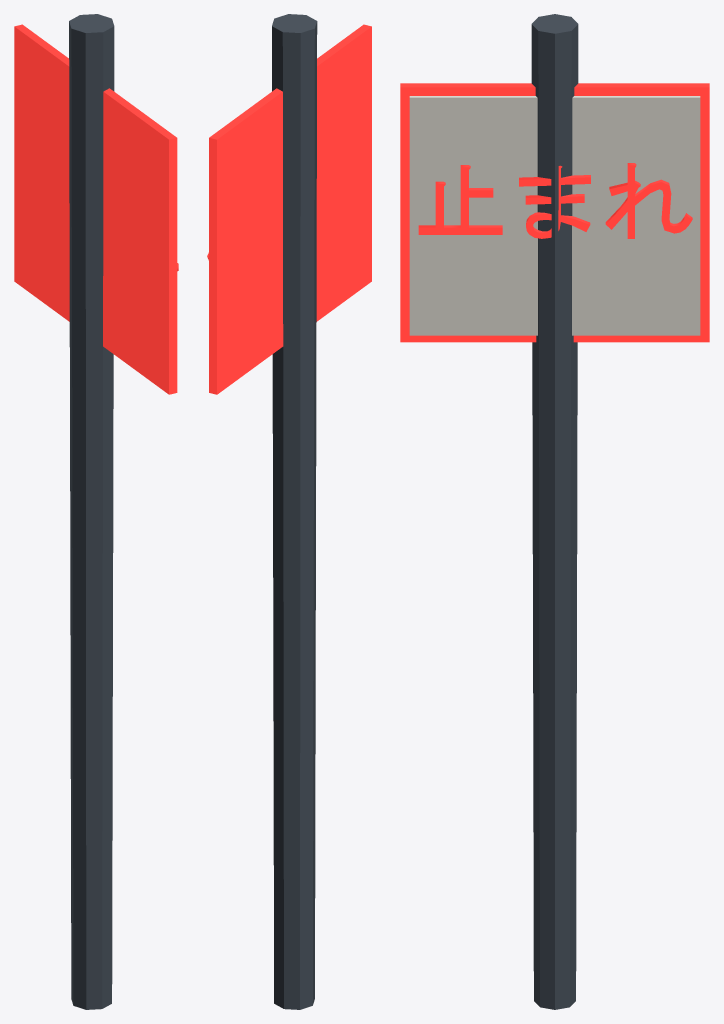
The model's file is prop_stop.glb.
3 views of the same model, side by side, from view 1: azimuth 30°, elevation 25°; view 2: azimuth 150°, elevation 25°; view 3: azimuth 270°, elevation 25° (orthographic).
Visible parts, largest first — view 1: post.274, plate_edge.001; view 2: post.274, plate_edge.001; view 3: plate.001, post.274, plate_edge.001, stop_text.001.
Boxes of the visible parts, bbox=[...] form: post.274: bbox=[69, 14, 114, 1009]; plate_edge.001: bbox=[14, 24, 177, 394]; post.274: bbox=[272, 14, 317, 1009]; plate_edge.001: bbox=[209, 24, 371, 394]; plate.001: bbox=[409, 96, 700, 335]; post.274: bbox=[531, 14, 578, 1009]; plate_edge.001: bbox=[400, 83, 709, 342]; stop_text.001: bbox=[418, 163, 692, 238].
Bounding box in the file's own units: 0.1 × 2.3 × 0.66.
